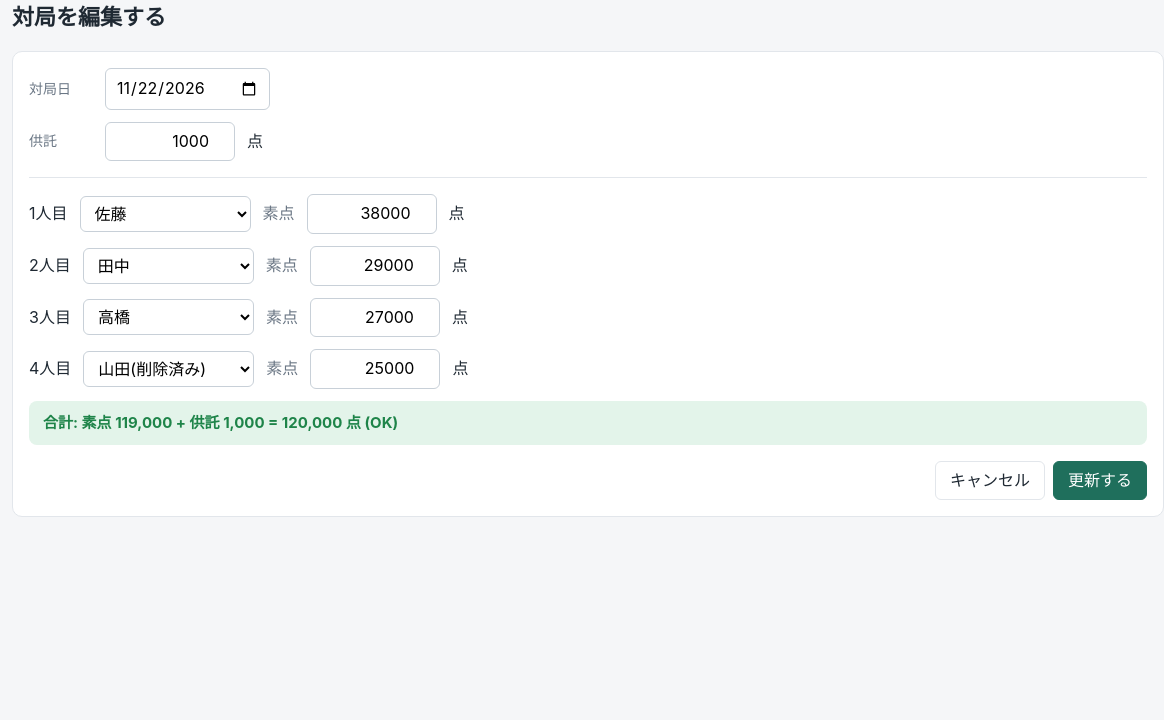
it: 更新 › 合計が合わなくなったら、更新できない
This screenshot has width=1164, height=720.
Check: the date field labelled "対局日" is shown, box [105,68,270,110]
Replace the text in the number field named "1人目の素点" with "39000": (372, 214) [306,194,436,234]
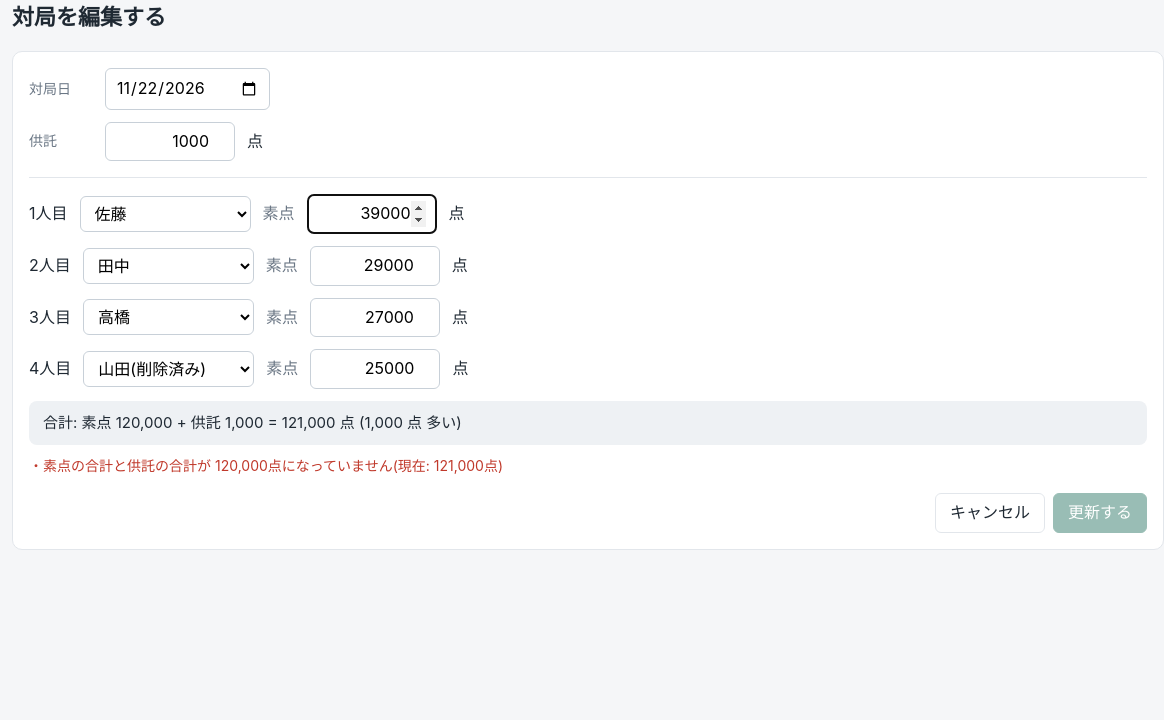
Check: the button "更新する" is disabled, box [1053,493,1147,533]
Check: the message shows "(現在: 121,000点)", box [43,457,503,474]
